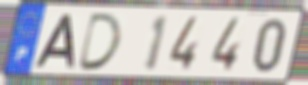0: (250, 17, 290, 75)
1: (144, 13, 170, 73)
4: (167, 16, 201, 74), (209, 16, 242, 74)
A: (33, 13, 77, 70)
D: (75, 11, 125, 72)
